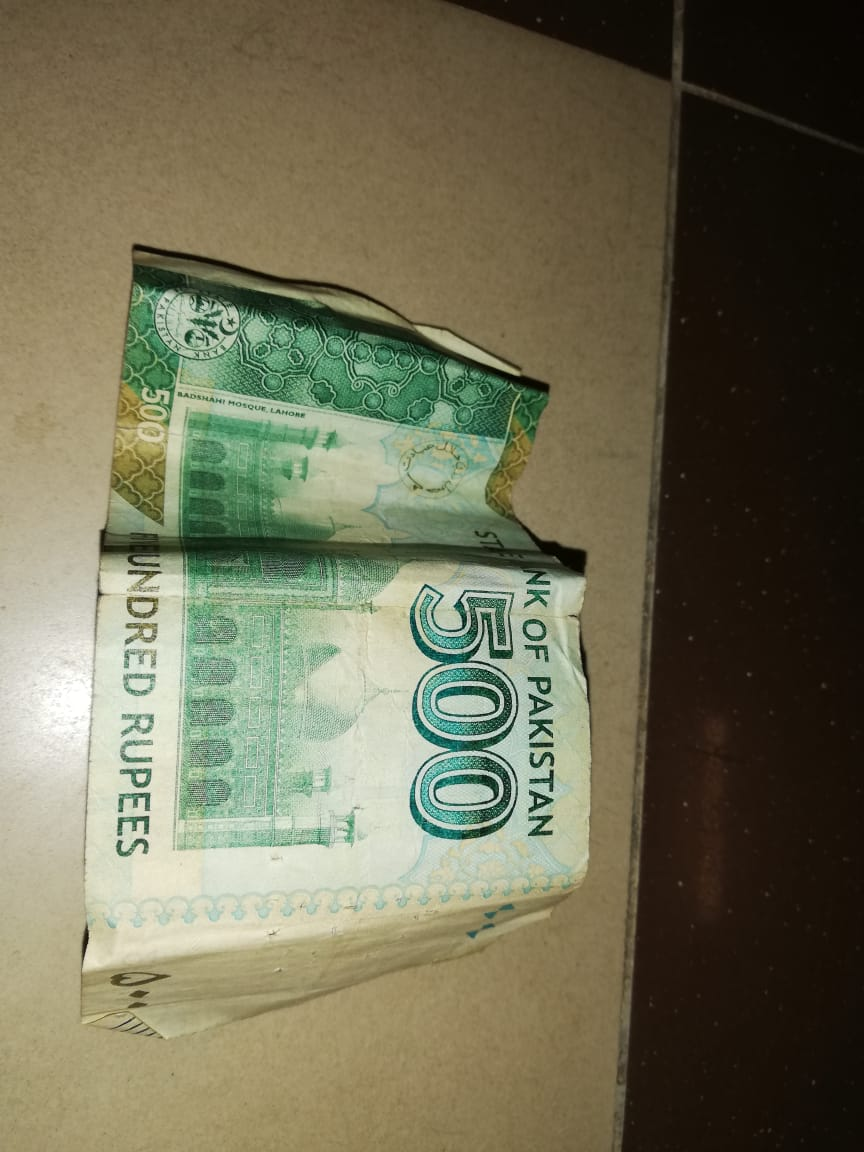500 rupee: (45, 235, 606, 1047)
